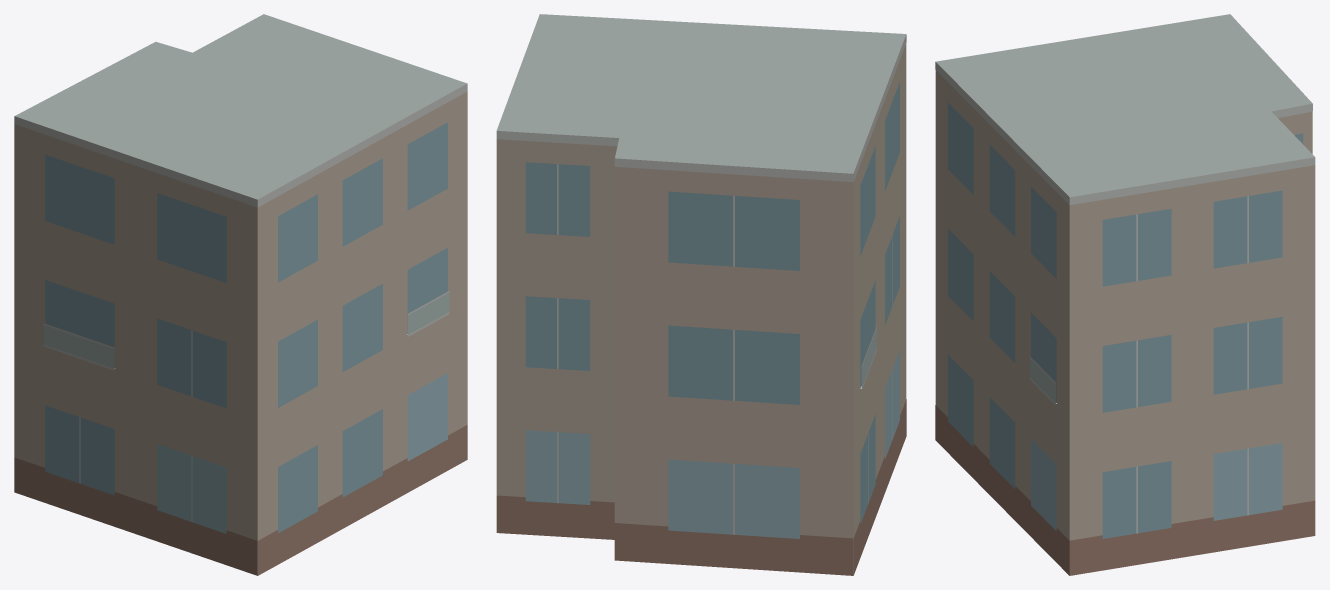
Rendered from survey-upis-32490018.glb.
The picture shows the model from 3 angles, left to right: view 1: azimuth 30°, elevation 25°; view 2: azimuth 150°, elevation 25°; view 3: azimuth 270°, elevation 25°; orthographic projection. The views are drawn at different scales.
Parts seen in each view (by area): view 1: survey-upis-32490018.tmp; view 2: survey-upis-32490018.tmp; view 3: survey-upis-32490018.tmp.
Boxes of the visible parts, bbox=[...] form: survey-upis-32490018.tmp: bbox=[14, 14, 467, 575]; survey-upis-32490018.tmp: bbox=[496, 14, 906, 575]; survey-upis-32490018.tmp: bbox=[935, 14, 1315, 575].
Bounding box in the file's own units: 12.16 × 11.7 × 10.65.
